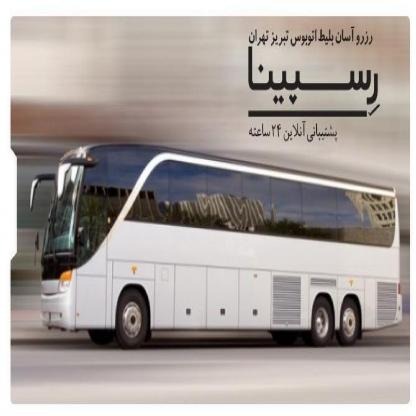Bus: (16, 142, 405, 356)
